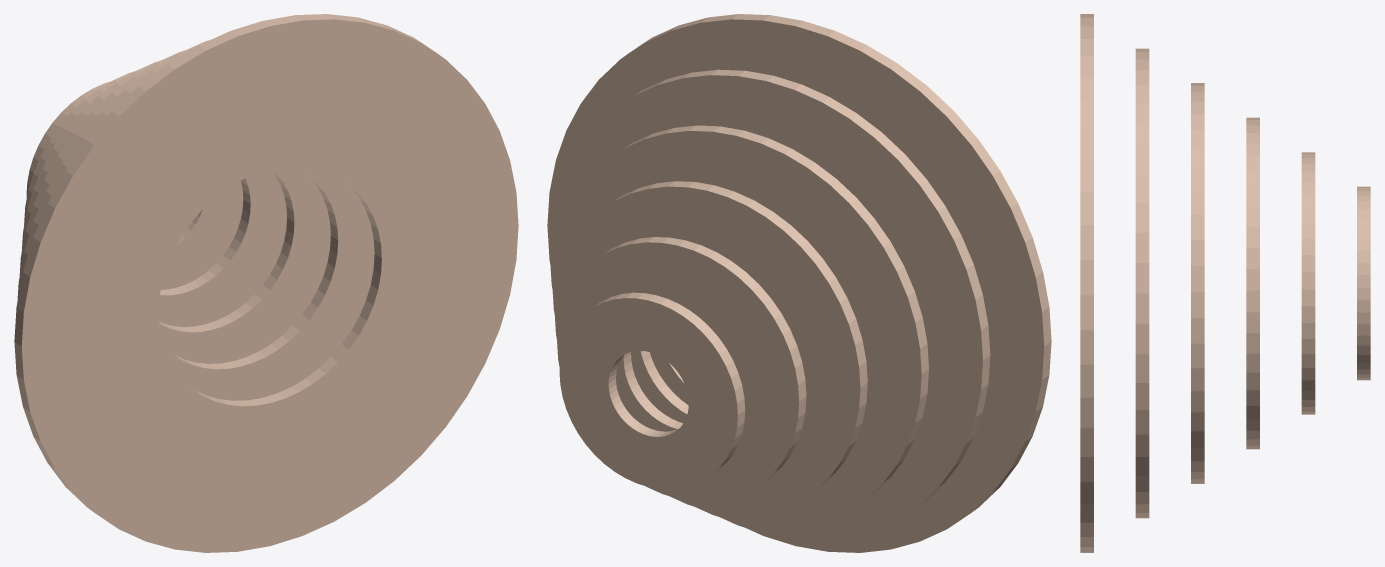
Rendered from Aquarion_Plate_Coral_Terrace.glb.
3 views of the same model, side by side, from view 1: azimuth 30°, elevation 25°; view 2: azimuth 150°, elevation 25°; view 3: azimuth 270°, elevation 25° (orthographic). The views are drawn at different scales.
Parts seen in each view (by area): view 1: Aquarion_Plate_Coral_Terrace_plate5, Aquarion_Plate_Coral_Terrace_plate4, Aquarion_Plate_Coral_Terrace_plate3, Aquarion_Plate_Coral_Terrace_plate2, Aquarion_Plate_Coral_Terrace_plate1, Aquarion_Plate_Coral_Terrace_plate0; view 2: Aquarion_Plate_Coral_Terrace_plate5, Aquarion_Plate_Coral_Terrace_plate4, Aquarion_Plate_Coral_Terrace_plate3, Aquarion_Plate_Coral_Terrace_plate2, Aquarion_Plate_Coral_Terrace_plate1, Aquarion_Plate_Coral_Terrace_plate0; view 3: Aquarion_Plate_Coral_Terrace_plate5, Aquarion_Plate_Coral_Terrace_plate4, Aquarion_Plate_Coral_Terrace_plate3, Aquarion_Plate_Coral_Terrace_plate2, Aquarion_Plate_Coral_Terrace_plate1, Aquarion_Plate_Coral_Terrace_plate0.
Boxes of the visible parts, <box> form: Aquarion_Plate_Coral_Terrace_plate5: <box>14,14,518,552</box>; Aquarion_Plate_Coral_Terrace_plate4: <box>17,40,374,400</box>; Aquarion_Plate_Coral_Terrace_plate3: <box>19,50,330,363</box>; Aquarion_Plate_Coral_Terrace_plate2: <box>21,61,286,326</box>; Aquarion_Plate_Coral_Terrace_plate1: <box>24,71,243,289</box>; Aquarion_Plate_Coral_Terrace_plate0: <box>26,81,111,197</box>; Aquarion_Plate_Coral_Terrace_plate5: <box>547,14,1051,552</box>; Aquarion_Plate_Coral_Terrace_plate4: <box>550,69,990,540</box>; Aquarion_Plate_Coral_Terrace_plate3: <box>552,125,928,527</box>; Aquarion_Plate_Coral_Terrace_plate2: <box>554,181,867,514</box>; Aquarion_Plate_Coral_Terrace_plate1: <box>557,237,806,502</box>; Aquarion_Plate_Coral_Terrace_plate0: <box>559,292,745,489</box>; Aquarion_Plate_Coral_Terrace_plate5: <box>1080,14,1093,552</box>; Aquarion_Plate_Coral_Terrace_plate4: <box>1135,48,1149,518</box>; Aquarion_Plate_Coral_Terrace_plate3: <box>1191,83,1204,483</box>; Aquarion_Plate_Coral_Terrace_plate2: <box>1246,117,1259,449</box>; Aquarion_Plate_Coral_Terrace_plate1: <box>1301,152,1315,414</box>; Aquarion_Plate_Coral_Terrace_plate0: <box>1357,186,1370,380</box>.
Bounding box in the file's own units: 1.56 × 1.56 × 0.84.
